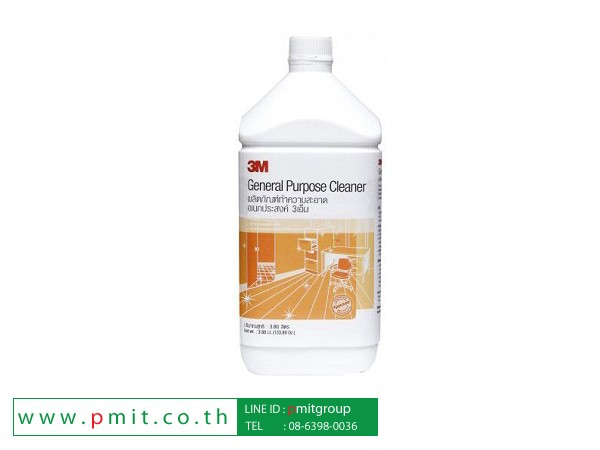Cleaning_solution: (234, 29, 388, 380)
